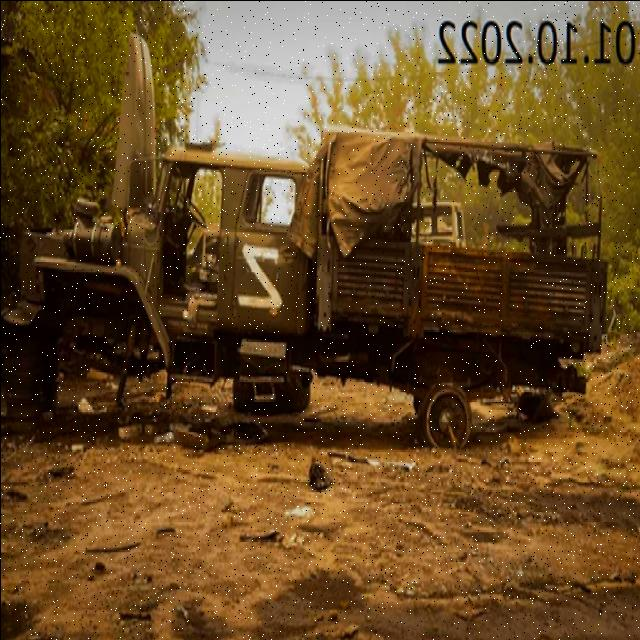TRUCK: (2, 113, 612, 456)
